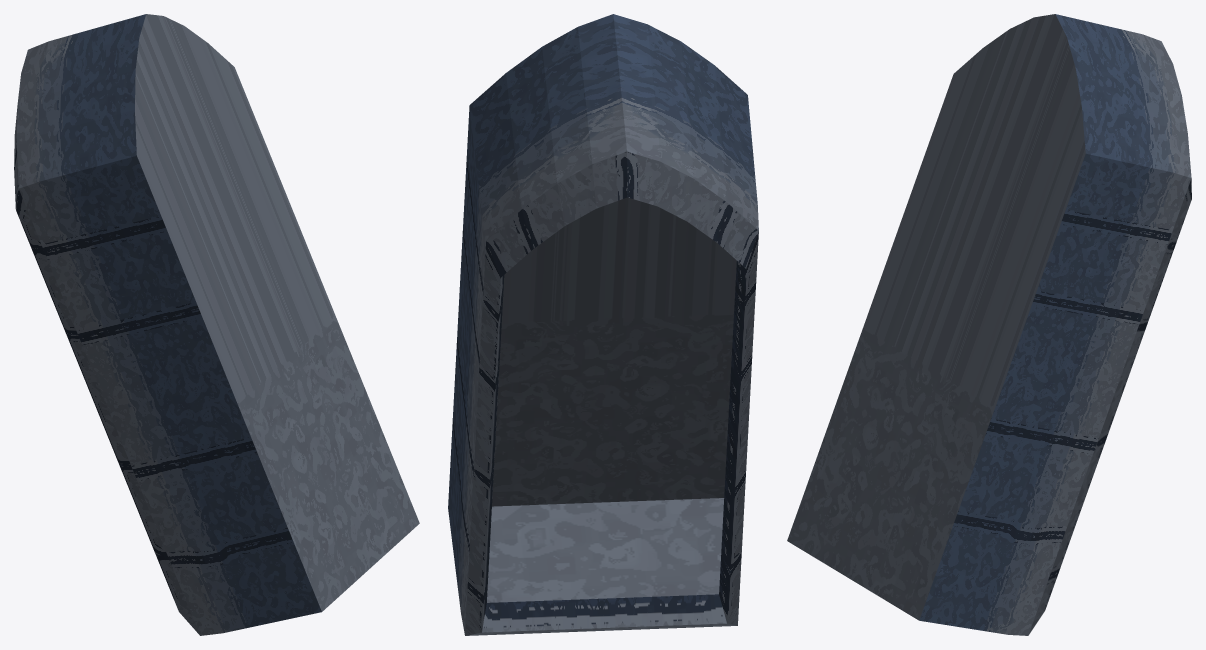
Rendered from window_manor_alt_frame.fbx.
The picture shows the model from 3 angles, left to right: view 1: azimuth 30°, elevation 25°; view 2: azimuth 150°, elevation 25°; view 3: azimuth 270°, elevation 25°; orthographic projection. The views are drawn at different scales.
Visible parts, largest first — view 1: Cube.012; view 2: Cube.012; view 3: Cube.012.
Part boxes in pixels (x1,y1,x2,y2): Cube.012: (14,14,419,635); Cube.012: (448,14,758,635); Cube.012: (787,14,1191,635).
Bounding box in the file's own units: 718 × 1163 × 768.
